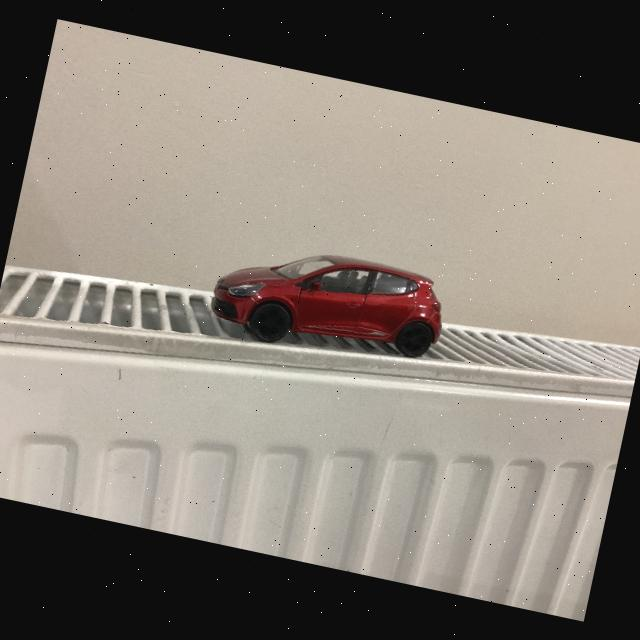Dogru_Jant: (252, 304, 287, 340), (404, 324, 430, 351)
